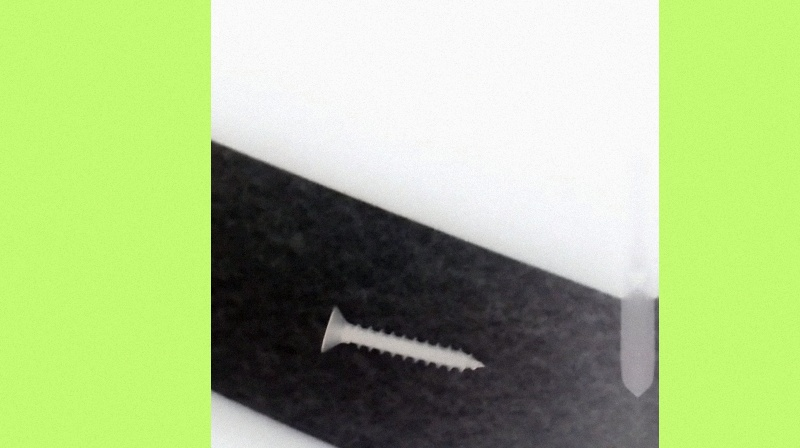S001: (316, 301, 490, 375)
